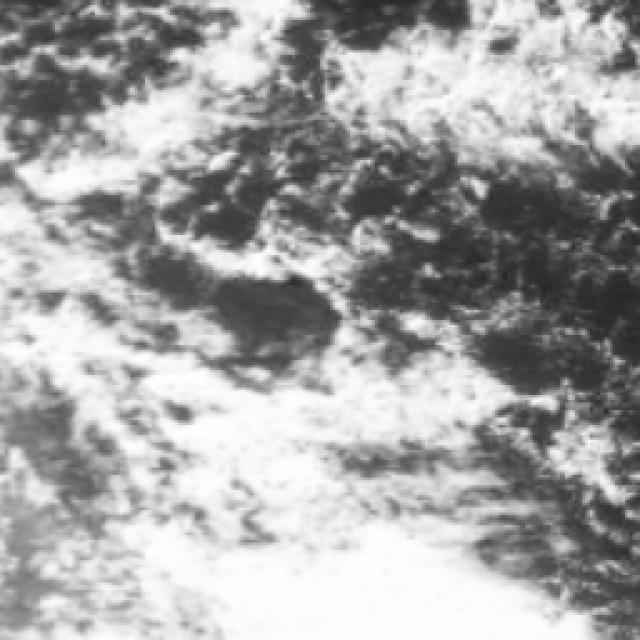CB: (229, 530, 461, 640)
